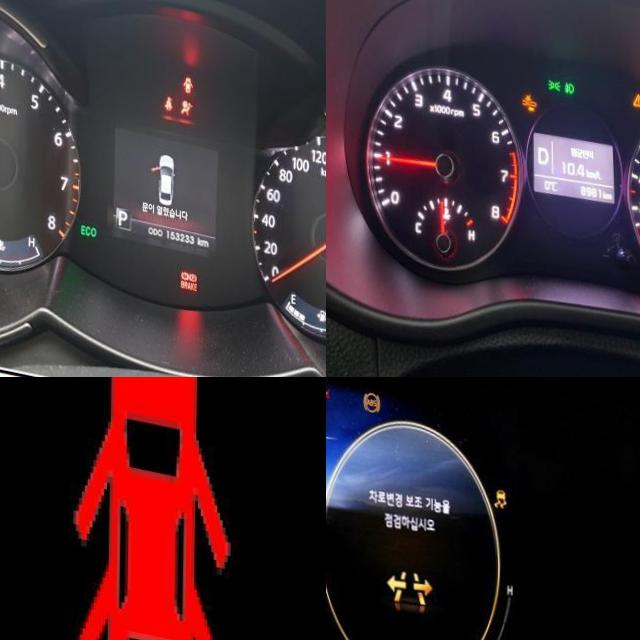Central Warning lamp: (632, 74, 640, 90)
FrontFogLight: (565, 67, 574, 80)
SideLamp: (548, 64, 561, 79)
